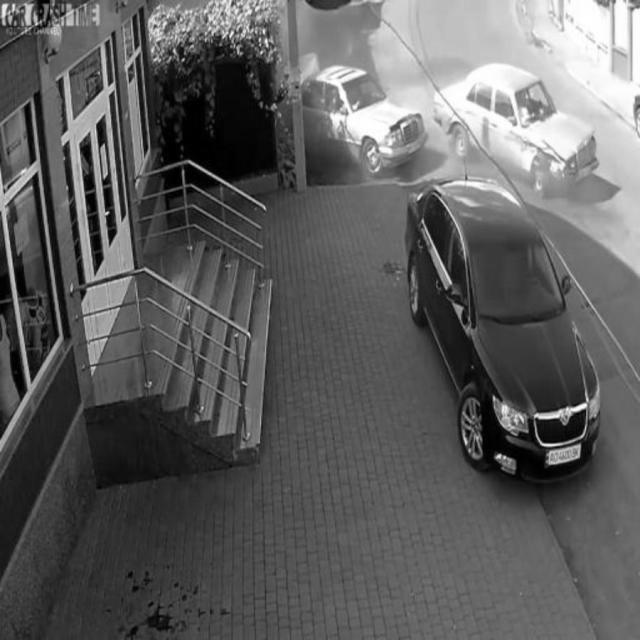vehicle: (406, 184, 591, 484), (441, 65, 605, 186), (302, 52, 426, 174)
